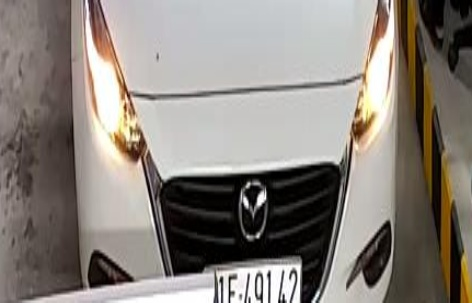plate: (195, 260, 307, 303)
